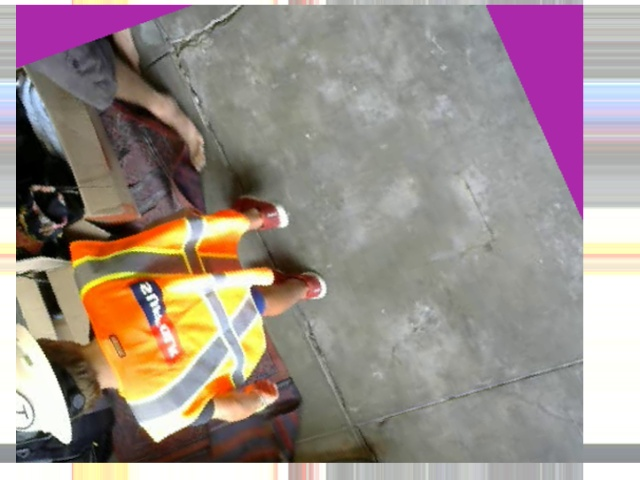one: (0, 383, 37, 435)
